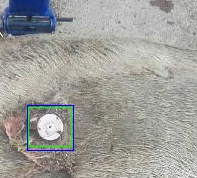text: (28, 107, 71, 146)
